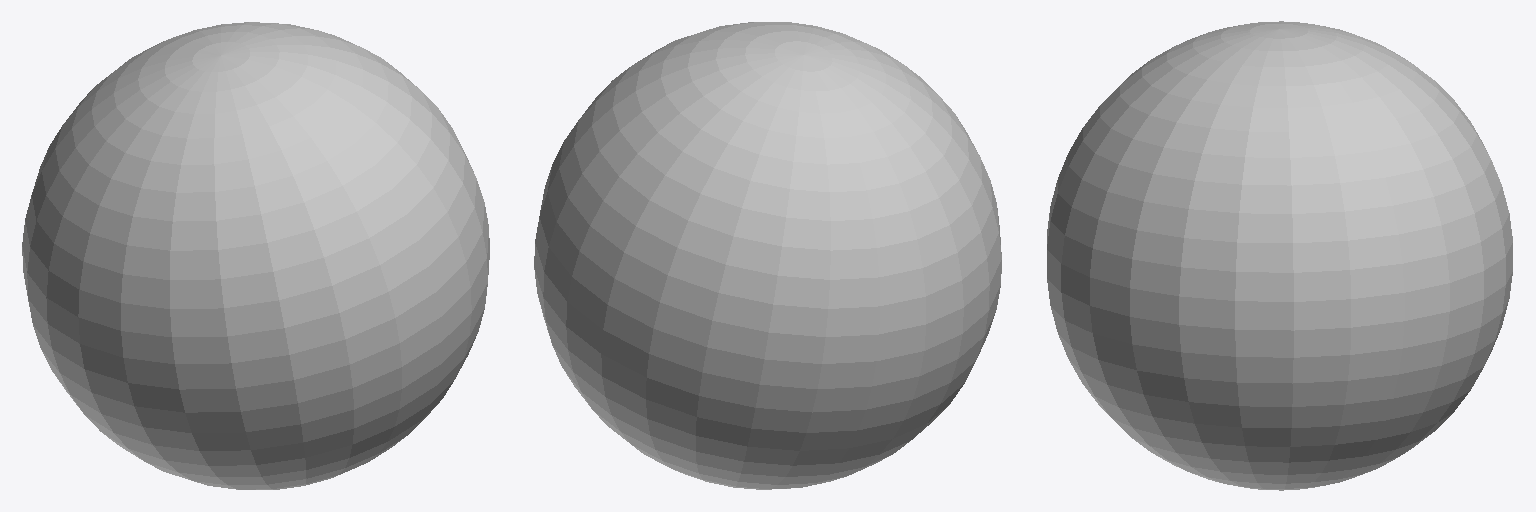
Rendered from CubeWITHAnim0011.obj.
3 renders of one model, left to right at view 1: azimuth 30°, elevation 25°; view 2: azimuth 150°, elevation 25°; view 3: azimuth 270°, elevation 25°, orthographic.
Parts seen in each view (by area): view 1: NEWJumpBall_Sphere; view 2: NEWJumpBall_Sphere; view 3: NEWJumpBall_Sphere.
Boxes of the visible parts, x1=… form: NEWJumpBall_Sphere: x1=22, y1=22, x2=489, y2=489; NEWJumpBall_Sphere: x1=534, y1=22, x2=1001, y2=489; NEWJumpBall_Sphere: x1=1047, y1=21, x2=1512, y2=490.
Size of the model in its own units: 2 by 2 by 1.99.